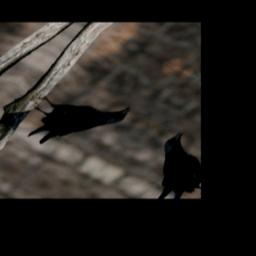Crow: (5, 74, 137, 163)
